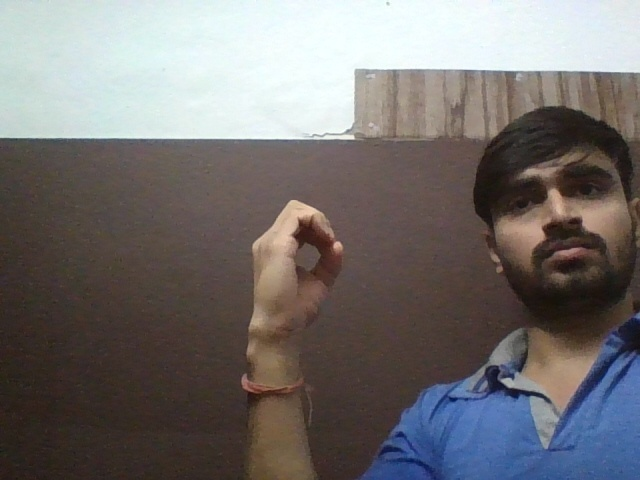O: (249, 201, 349, 356)
